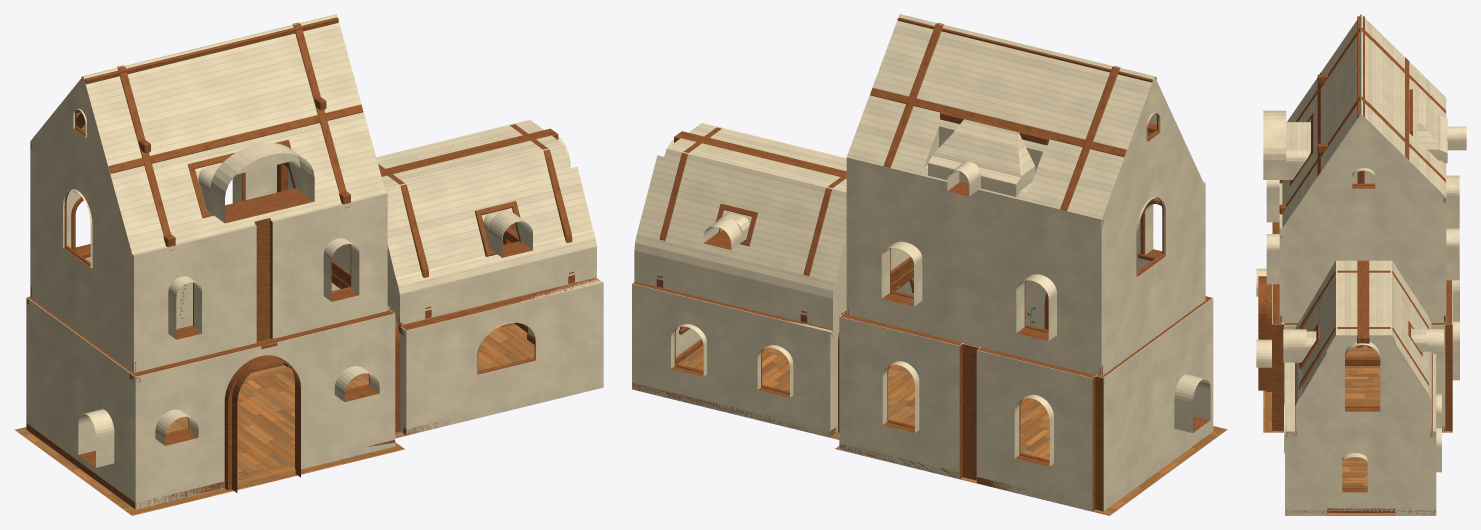
Rendered from house_e_lining.glb.
3 renders of one model, left to right at view 1: azimuth 30°, elevation 25°; view 2: azimuth 150°, elevation 25°; view 3: azimuth 270°, elevation 25°, orthographic. The views are drawn at different scales.
Visible parts, largest first — view 1: Architecture_Shell, Architecture_Timber, Architecture_Floor; view 2: Architecture_Shell, Architecture_Timber, Architecture_Floor; view 3: Architecture_Shell, Architecture_Timber, Architecture_Floor.
Boxes of the visible parts, bbox=[...] form: Architecture_Shell: bbox=[26, 14, 603, 509]; Architecture_Timber: bbox=[26, 17, 599, 508]; Architecture_Floor: bbox=[15, 322, 534, 515]; Architecture_Shell: bbox=[632, 14, 1213, 511]; Architecture_Timber: bbox=[632, 17, 1211, 510]; Architecture_Floor: bbox=[678, 345, 1227, 515]; Architecture_Shell: bbox=[1256, 14, 1466, 515]; Architecture_Timber: bbox=[1272, 16, 1451, 514]; Architecture_Floor: bbox=[1263, 345, 1452, 515].
Size of what is drawn, in the model's own units: 10.79 by 8.12 by 4.89.
5 materials, 5 textured.
